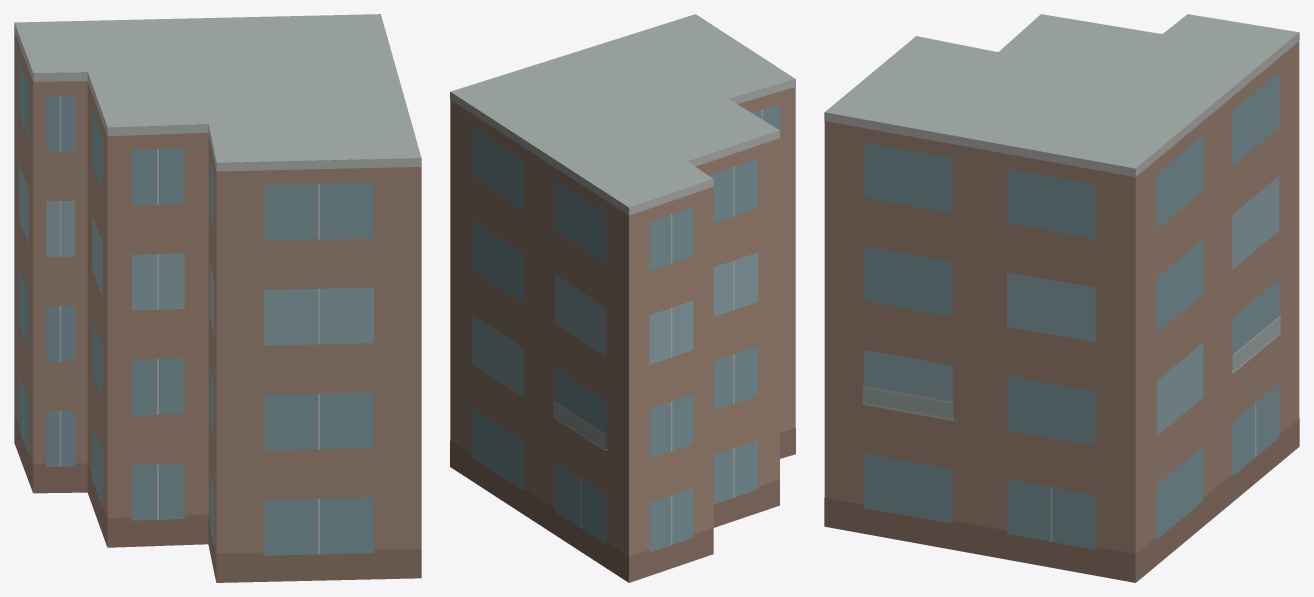
File: survey-upis-32921302.glb
3 renders of one model, left to right at view 1: azimuth 30°, elevation 25°; view 2: azimuth 150°, elevation 25°; view 3: azimuth 270°, elevation 25°, orthographic. The views are drawn at different scales.
Parts seen in each view (by area): view 1: survey-upis-32921302.tmp; view 2: survey-upis-32921302.tmp; view 3: survey-upis-32921302.tmp.
Part boxes in pixels (left/top/right/bottom): survey-upis-32921302.tmp: left=14, top=14, right=421, bottom=582; survey-upis-32921302.tmp: left=450, top=14, right=795, bottom=582; survey-upis-32921302.tmp: left=824, top=14, right=1299, bottom=582.
Bounding box in the file's own units: 9.37 × 11.7 × 12.17.
